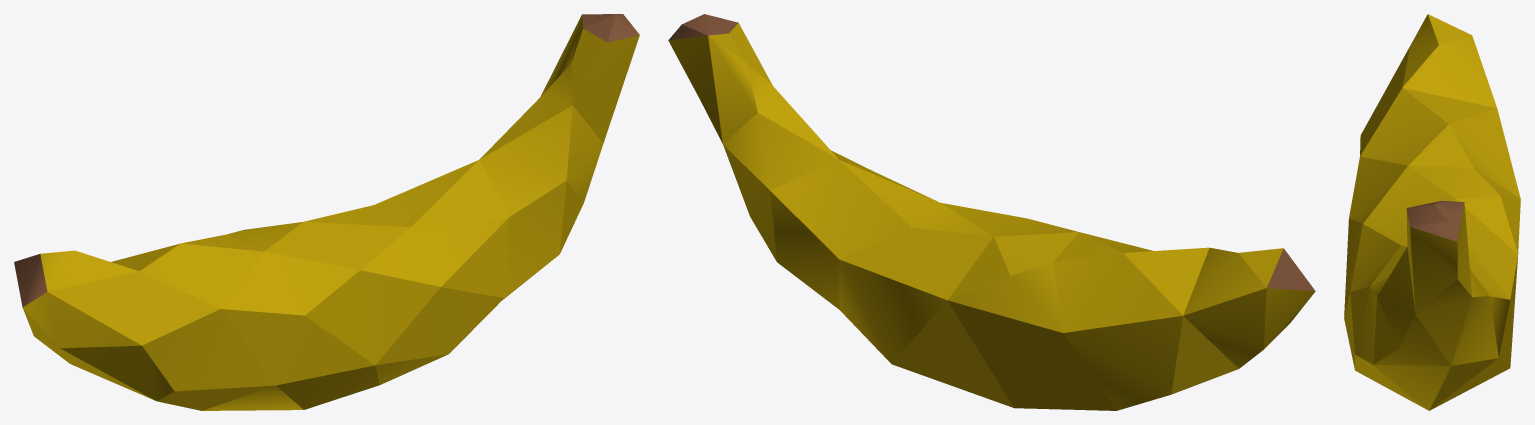
The model's file is Banana.fbx.
The picture shows the model from 3 angles, left to right: view 1: azimuth 30°, elevation 25°; view 2: azimuth 150°, elevation 25°; view 3: azimuth 270°, elevation 25°; orthographic projection. The views are drawn at different scales.
Parts seen in each view (by area): view 1: Banana; view 2: Banana; view 3: Banana.
Boxes of the visible parts, x1,y1,x2,y2 form: Banana: [14, 14, 639, 410]; Banana: [668, 14, 1315, 410]; Banana: [1344, 14, 1520, 410].
Bounding box in the file's own units: 20.21 × 9.29 × 4.81.
